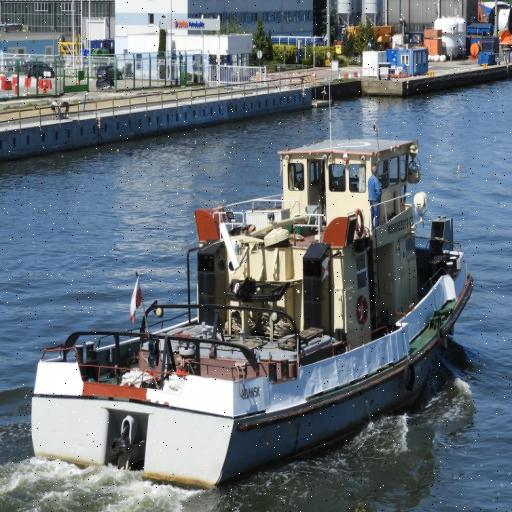tugboat: (36, 135, 476, 497)
